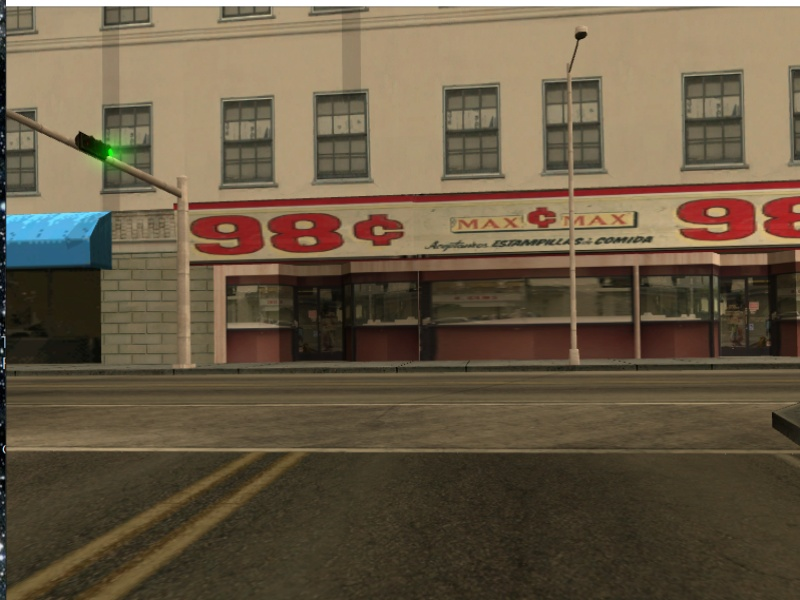pole: (173, 188, 197, 373), (567, 93, 580, 366)
